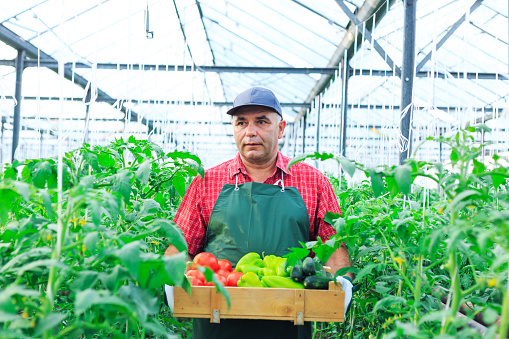em pe: (156, 75, 345, 290)
